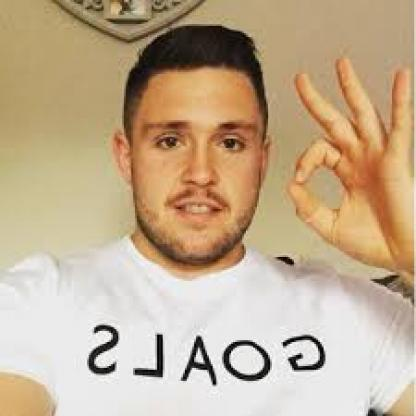ok: (286, 51, 416, 273)
